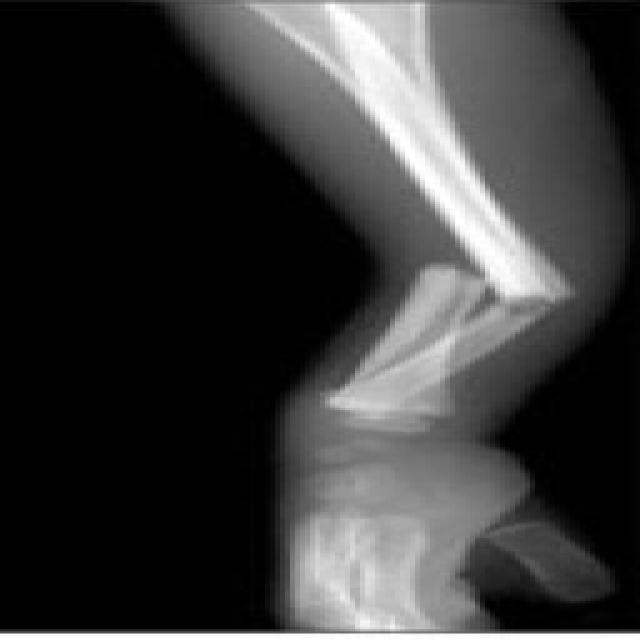fractured: (370, 248, 610, 332)
